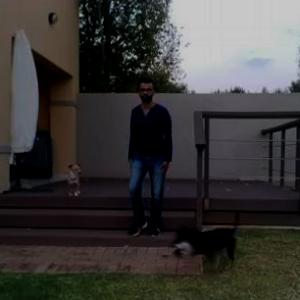follow: (130, 78, 174, 263)
